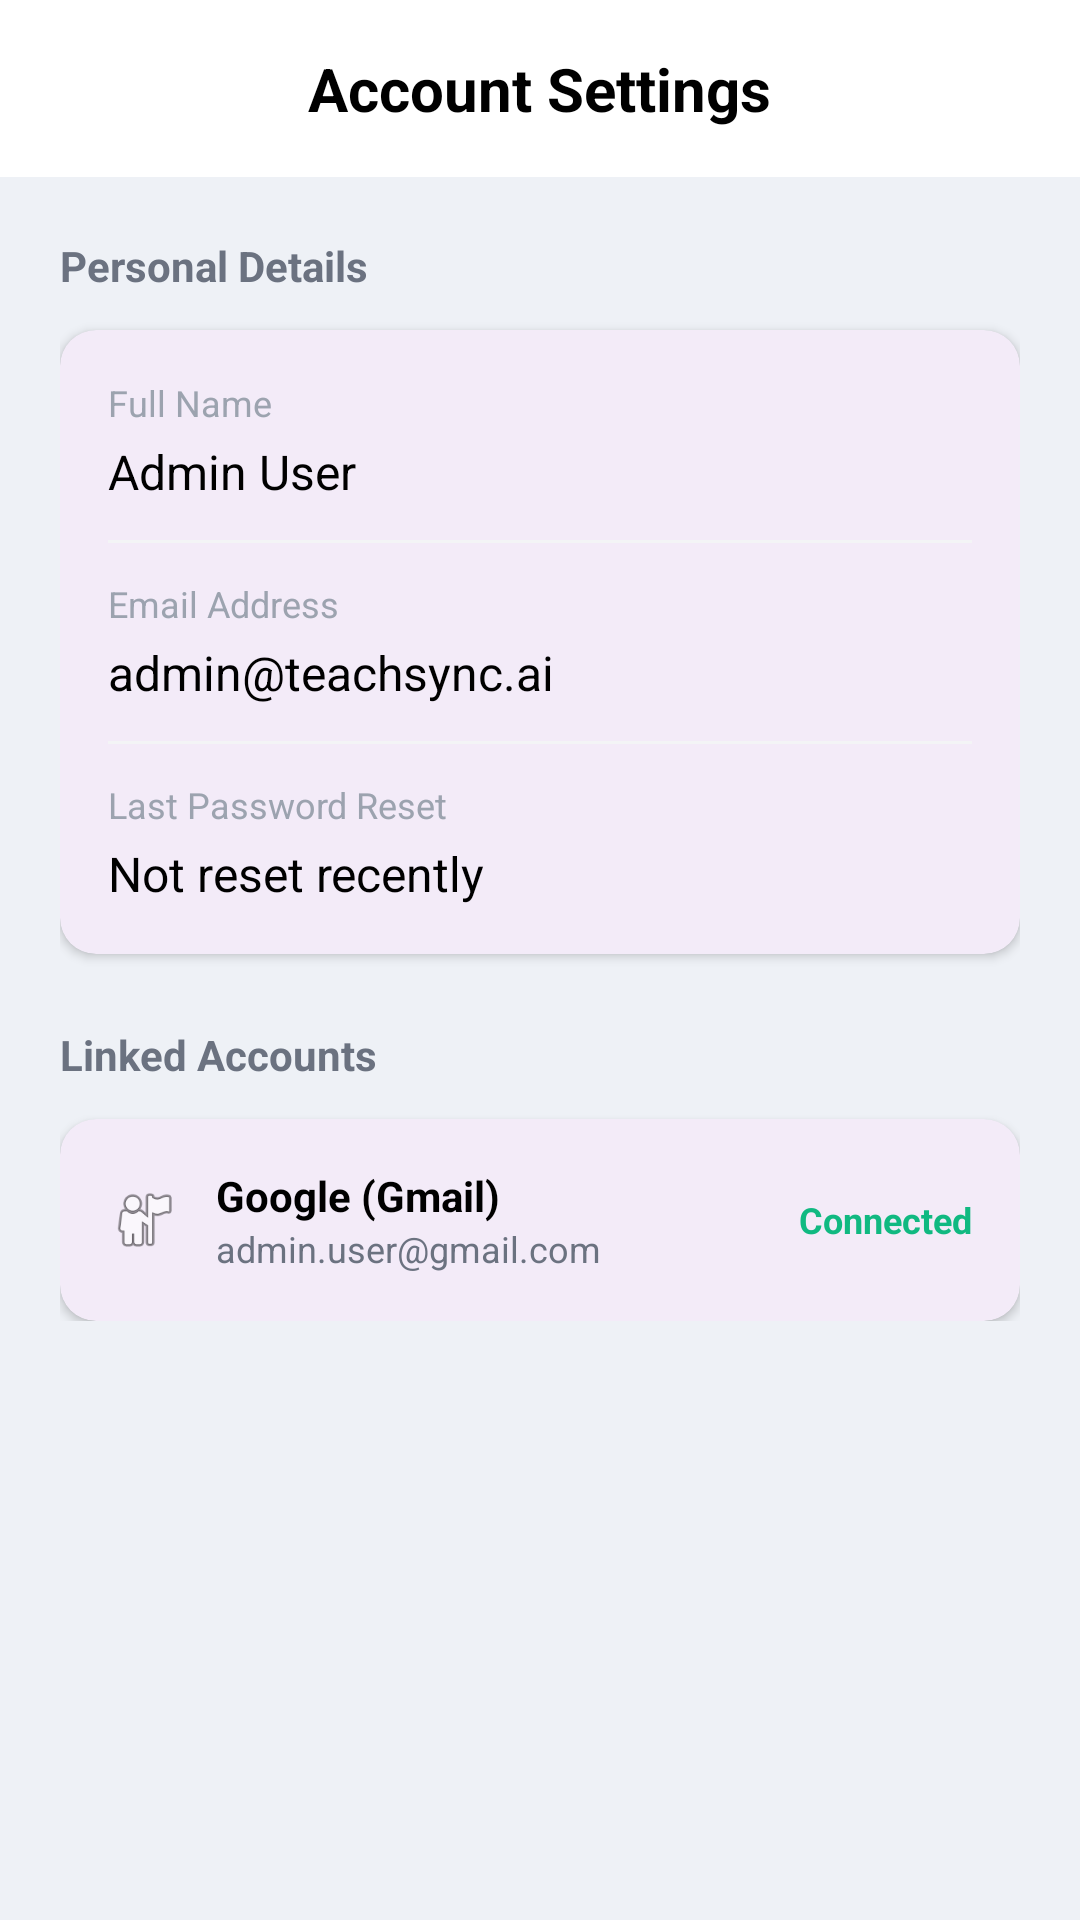

Named icons in this screenshot (1080×1920) and their bounding boxes, (x1, y1, x2, y2):
myplaces: (118, 1193, 172, 1247)
